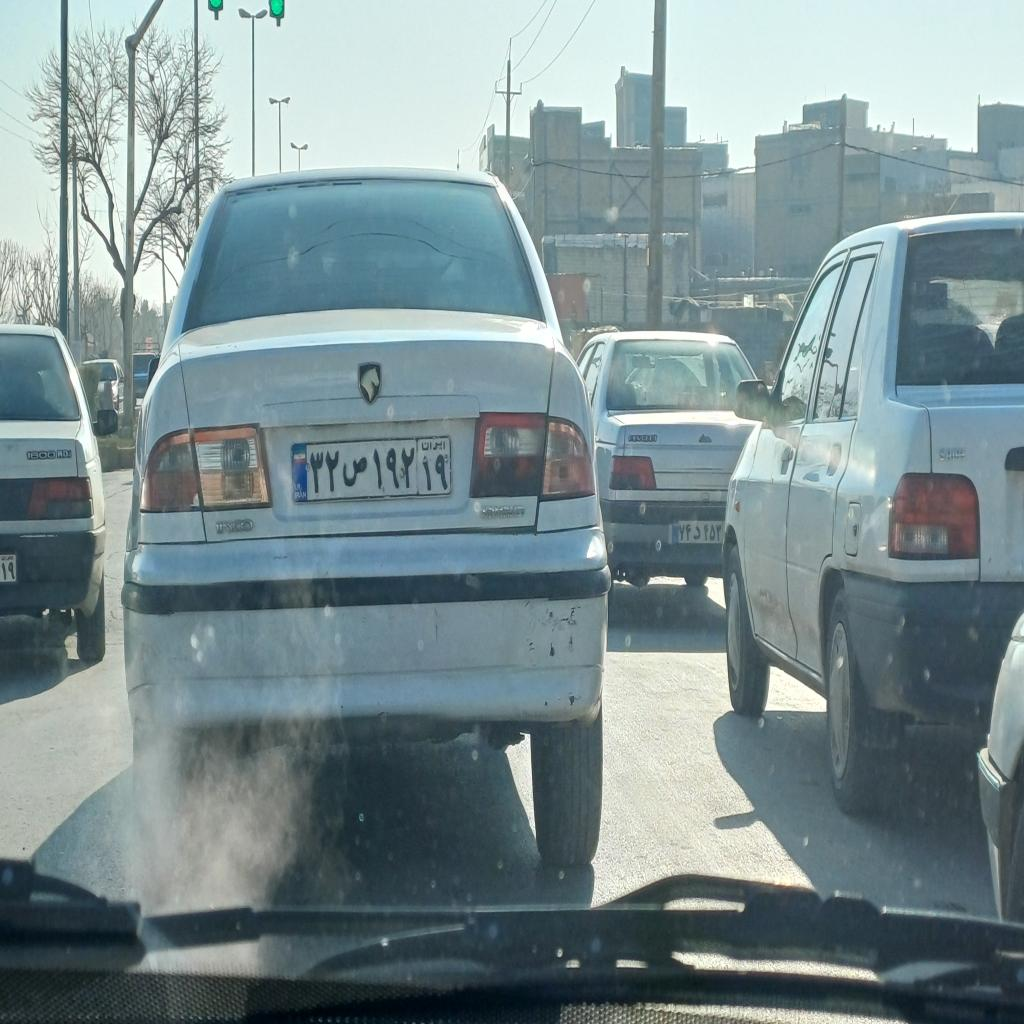Plates: (291, 430, 451, 510)
